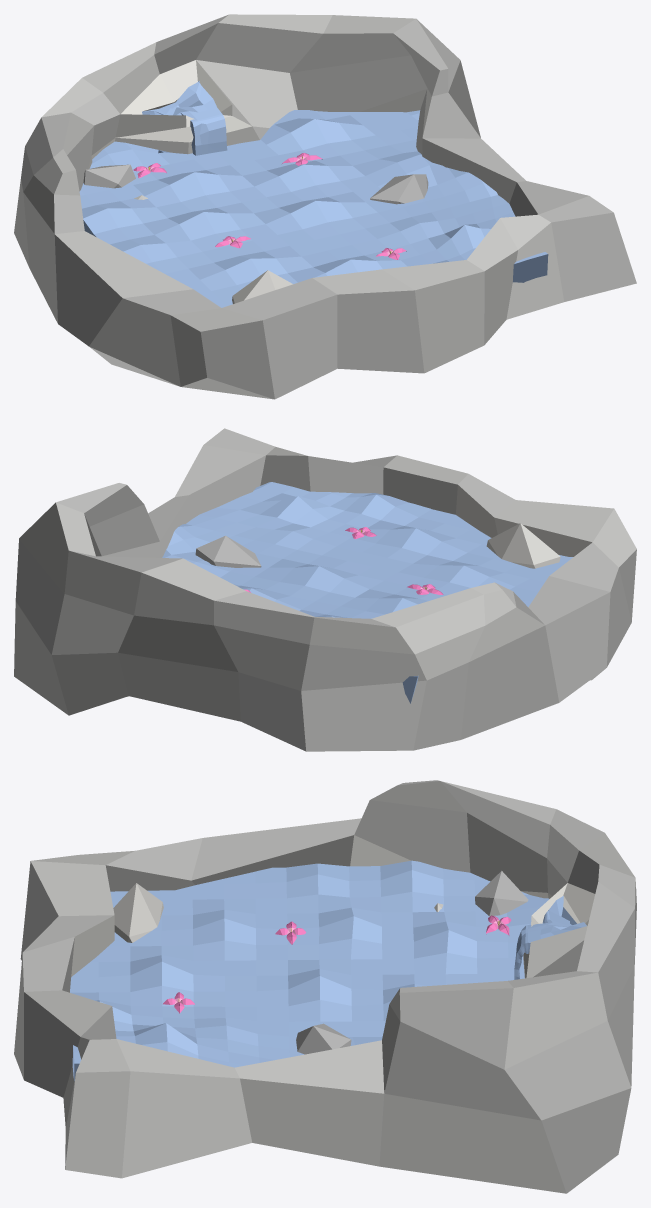
File: pool-type2.obj
3 views of the same model, one above another, from view 1: azimuth 30°, elevation 25°; view 2: azimuth 150°, elevation 25°; view 3: azimuth 270°, elevation 25° (orthographic). The views are drawn at different scales.
Parts seen in each view (by area): view 1: pool; view 2: pool; view 3: pool.
Boxes of the visible parts, bbox=[...] form: pool: bbox=[14, 14, 636, 399]; pool: bbox=[14, 428, 636, 751]; pool: bbox=[14, 780, 636, 1193].
Bounding box in the file's own units: 2.91 × 1.07 × 2.72.
